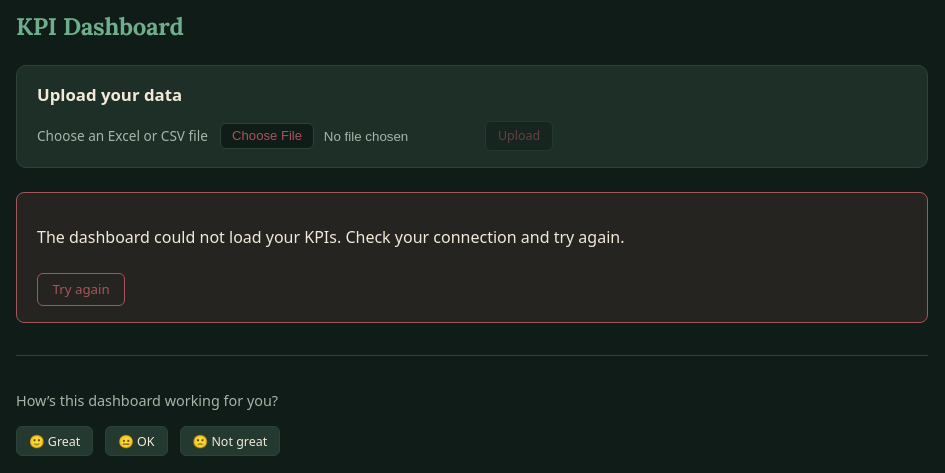
Dashboard › shows an error state when loading fails, and retries when the button is clicked
Expected: the message shows "could not load your KPIs", 37,226 -> 624,248
Click the button "Try again".
click(81, 289)  # box 37,273 -> 125,306
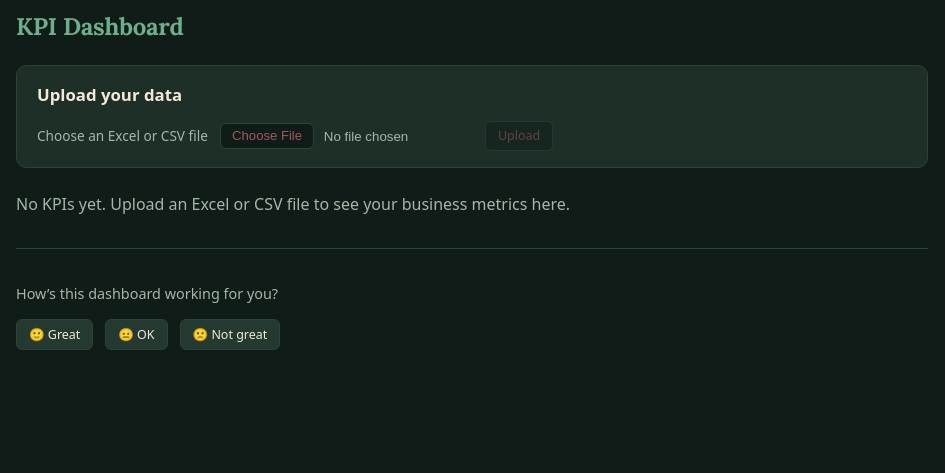
Expected: the text "No KPIs yet" is shown, 16,193 -> 570,215
